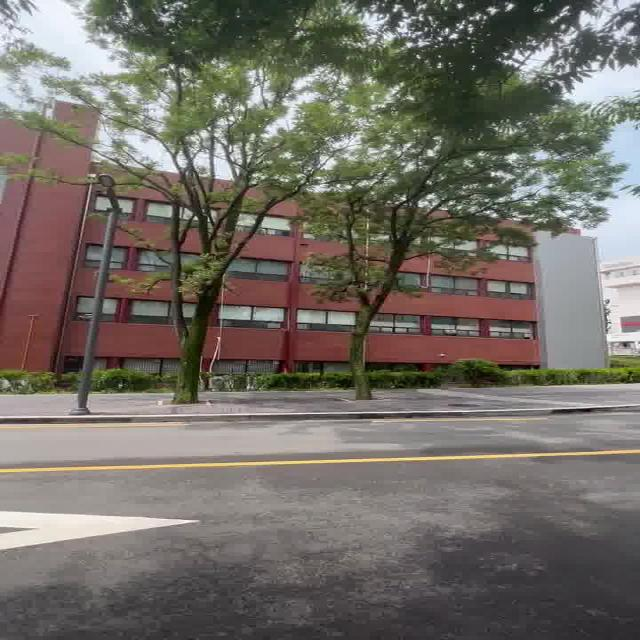building: (421, 257, 592, 362)
